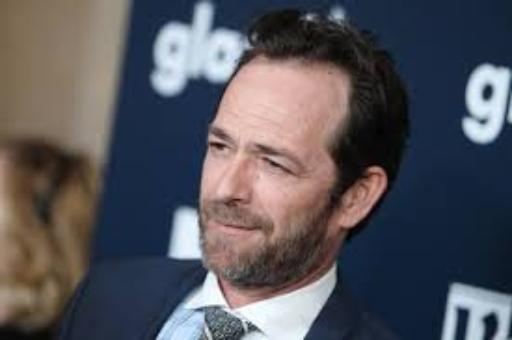left_eye: (258, 156, 297, 177)
left_lip_corner: (253, 224, 271, 237)
right_eye: (208, 140, 232, 157)
